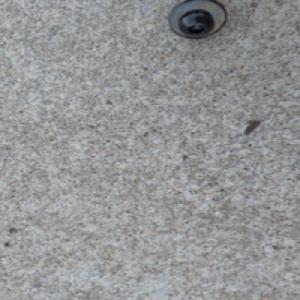BoltWasher: (166, 0, 229, 39)
